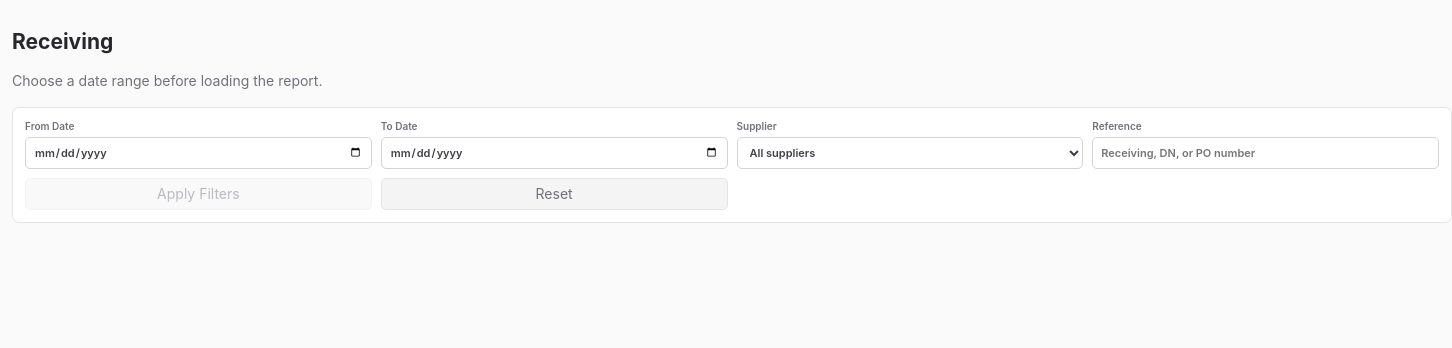
Test: ReportIndex › waits for a required date range before loading or exporting
expect the text "RCV-1" is not shown: met
expect the link "Export PDF" is not shown: met
Type "2026-07-01" into the date field labelled "From Date". click: [198, 153]
box: [25,137,372,169]
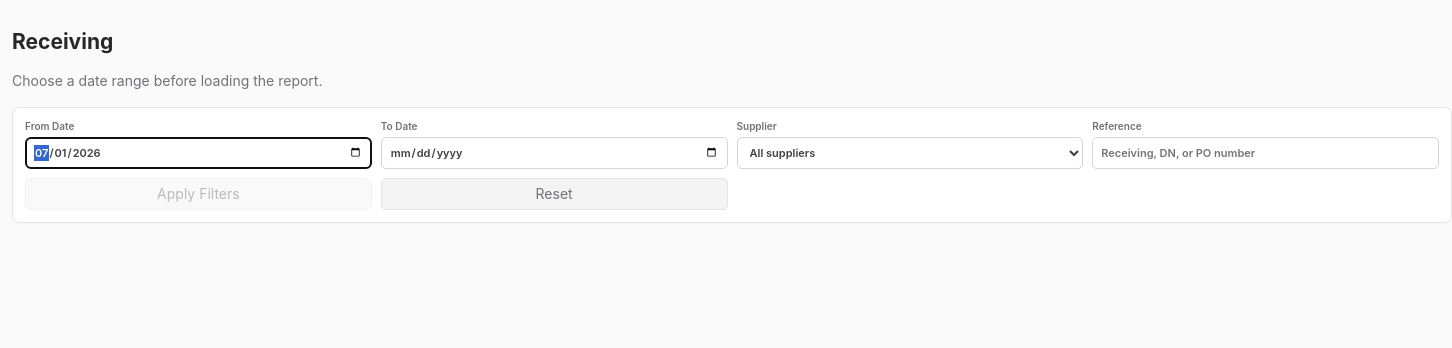
Type "2026-07-31" into the date field labelled "To Date". click: [554, 153]
box: [381,137,728,169]
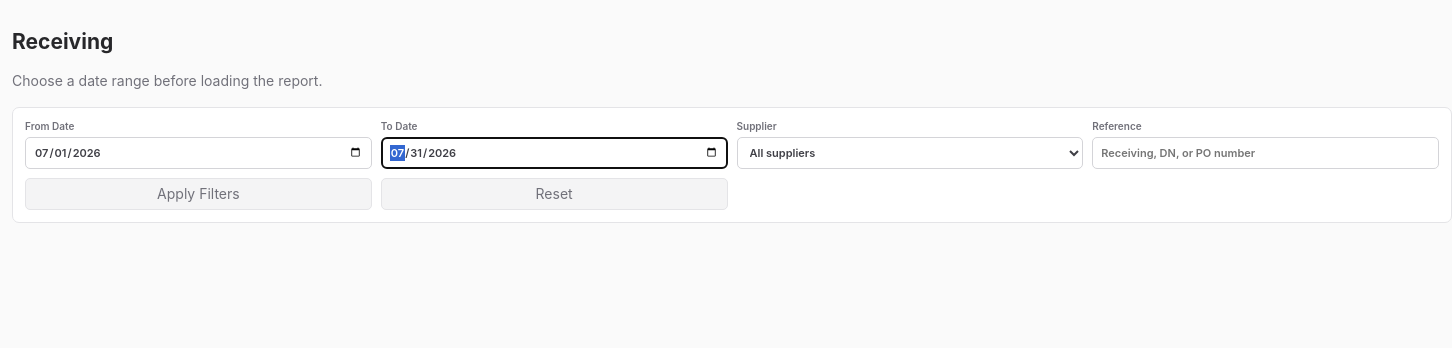
Click the button "Apply Filters". click: [198, 194]
box: [25,178,372,210]
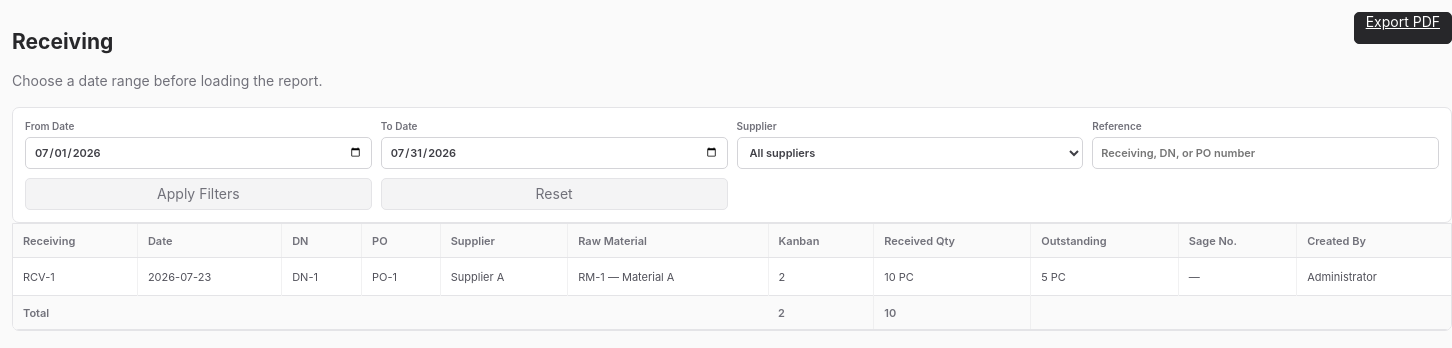
expect the text "RCV-1" is shown: met, box [13,258,137,296]
Click the button "Reset". click: [554, 194]
box: [381,178,728,210]
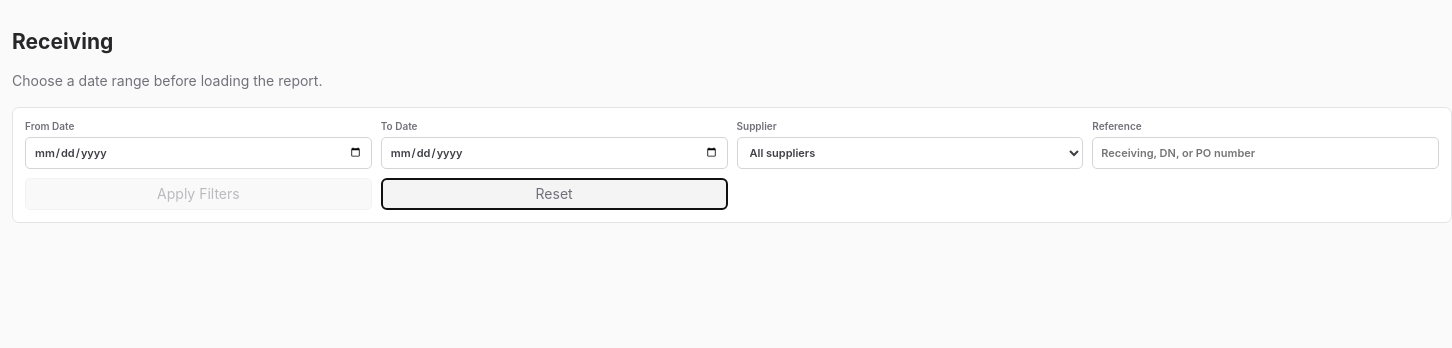
expect the text "RCV-1" is gone: met
expect the link "Export PDF" is gone: met
